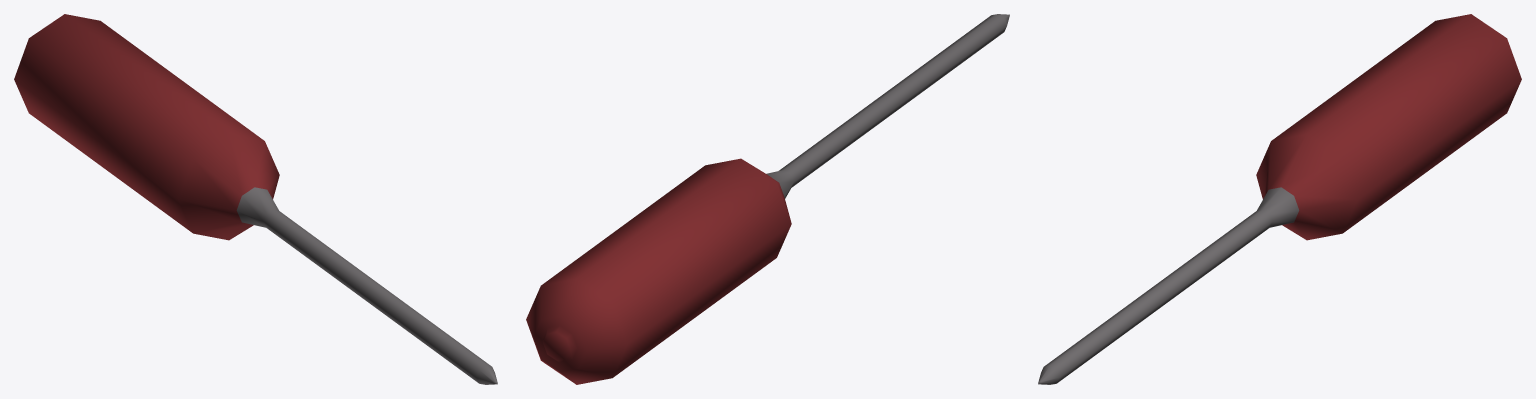
Rendered from Chave.fbx.
3 renders of one model, left to right at view 1: azimuth 30°, elevation 25°; view 2: azimuth 150°, elevation 25°; view 3: azimuth 330°, elevation 25°, orthographic.
Visible parts, largest first — view 1: Chave_de_Fenda; view 2: Chave_de_Fenda; view 3: Chave_de_Fenda.
Boxes of the visible parts, bbox=[...] form: Chave_de_Fenda: bbox=[14, 14, 497, 384]; Chave_de_Fenda: bbox=[526, 14, 1009, 384]; Chave_de_Fenda: bbox=[1038, 14, 1521, 384].
Size of the model in its own units: 19.53 by 19.53 by 151.
